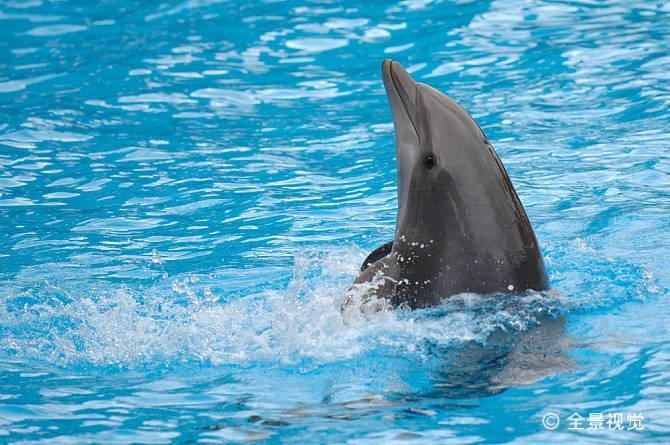fish: (359, 48, 577, 397)
